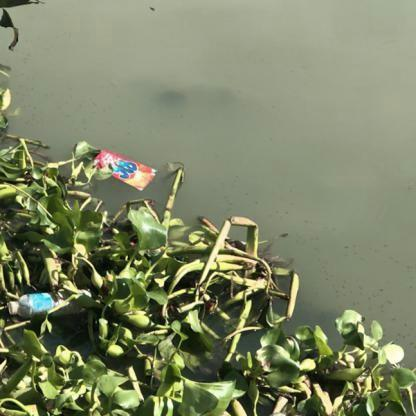Plastic: (6, 290, 64, 319)
Trash: (95, 139, 157, 193)
